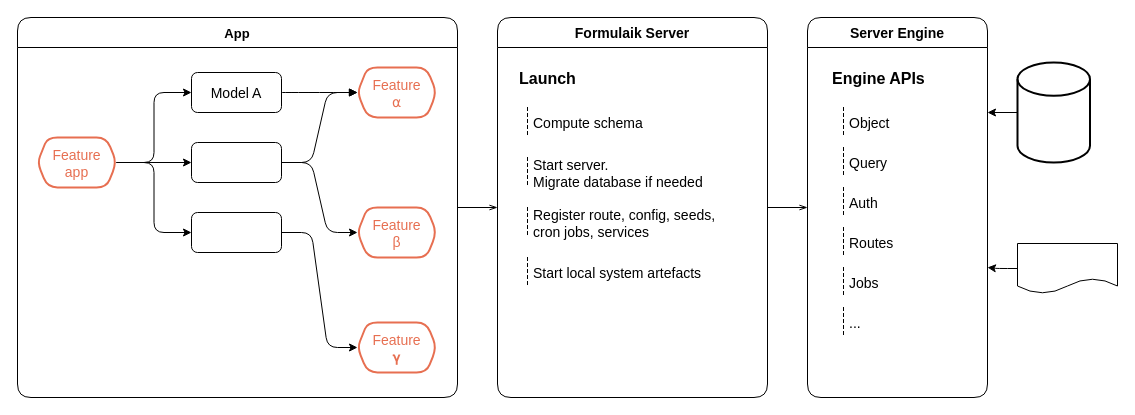
This 1135x415 diagram has some shape labels left out. The shapes that lost their labels are listed below. From the top down, each one's box as (x1, y1, x2, y2) in pixels, then its label:
(1016, 61, 1090, 163): Database
(190, 142, 282, 182): Model B
(190, 212, 282, 252): Model C
(1016, 242, 1118, 294): File storage
